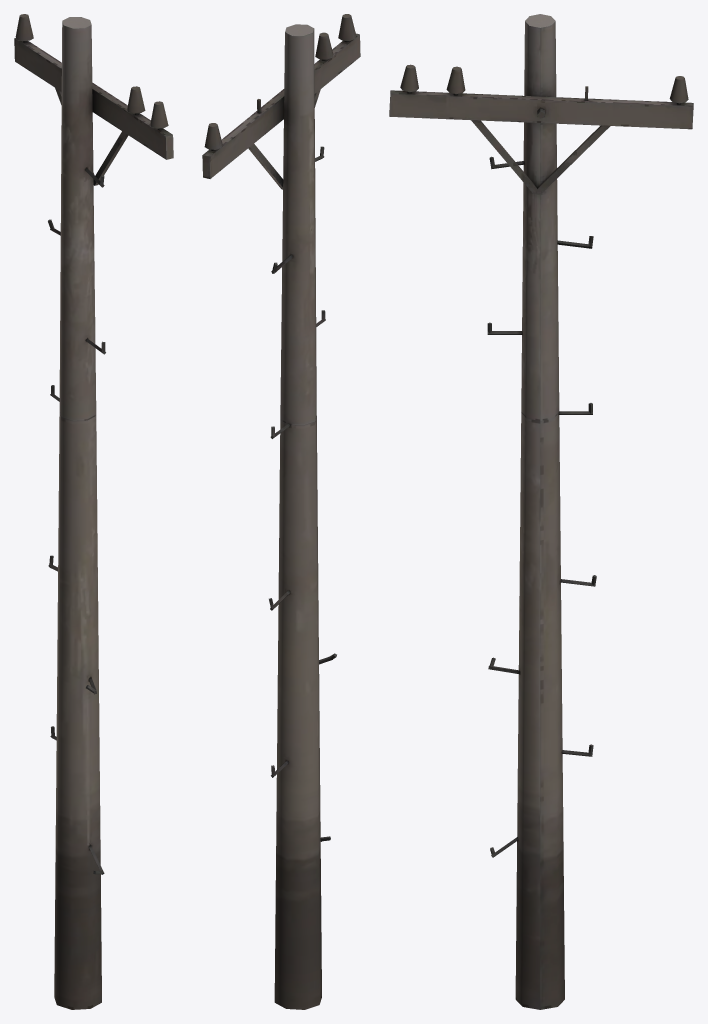
3 views of the same model, side by side, from view 1: azimuth 30°, elevation 25°; view 2: azimuth 150°, elevation 25°; view 3: azimuth 270°, elevation 25° (orthographic).
Parts seen in each view (by area): view 1: body0_model0_lod0_mesh0; view 2: body0_model0_lod0_mesh0; view 3: body0_model0_lod0_mesh0.
Part boxes in pixels (x1=…): body0_model0_lod0_mesh0: x1=14, y1=14, x2=173, y2=1009; body0_model0_lod0_mesh0: x1=202, y1=14, x2=360, y2=1009; body0_model0_lod0_mesh0: x1=389, y1=14, x2=693, y2=1009.
Size of the model in its own units: 1.67 by 32.02 by 9.03.
Materials: 1 (1 with a texture image).
